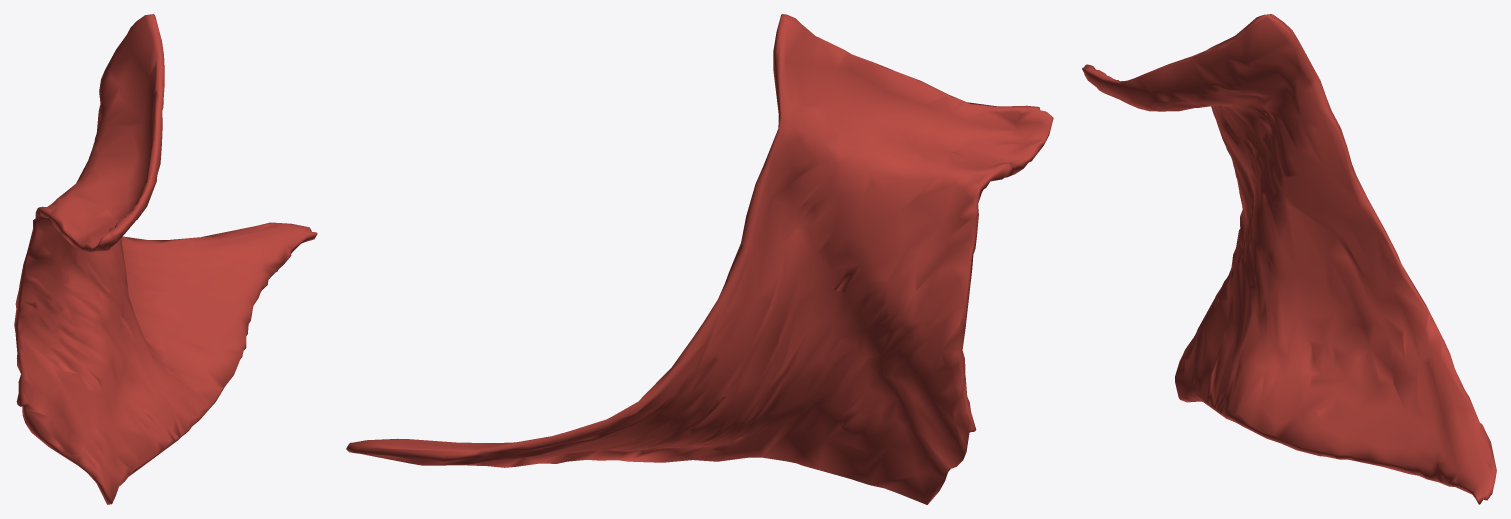
The model's file is musculos-platysma-l.glb.
3 views of the same model, side by side, from view 1: azimuth 30°, elevation 25°; view 2: azimuth 150°, elevation 25°; view 3: azimuth 270°, elevation 25° (orthographic). The views are drawn at different scales.
Visible parts, largest first — view 1: Platysma.l; view 2: Platysma.l; view 3: Platysma.l.
Part boxes in pixels (<box>): Platysma.l: <box>14,14,317,504</box>; Platysma.l: <box>346,14,1053,504</box>; Platysma.l: <box>1082,14,1496,504</box>.
Bounding box in the file's own units: 0.1439 × 0.1421 × 0.1245.
